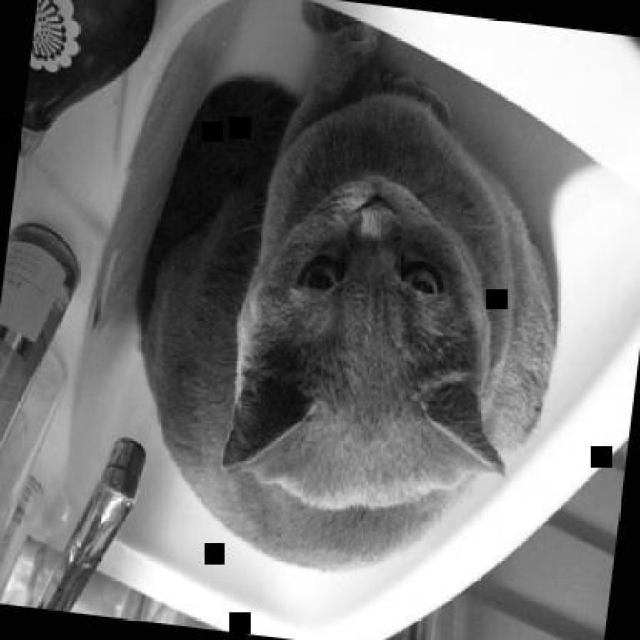cat: (110, 0, 592, 594)
